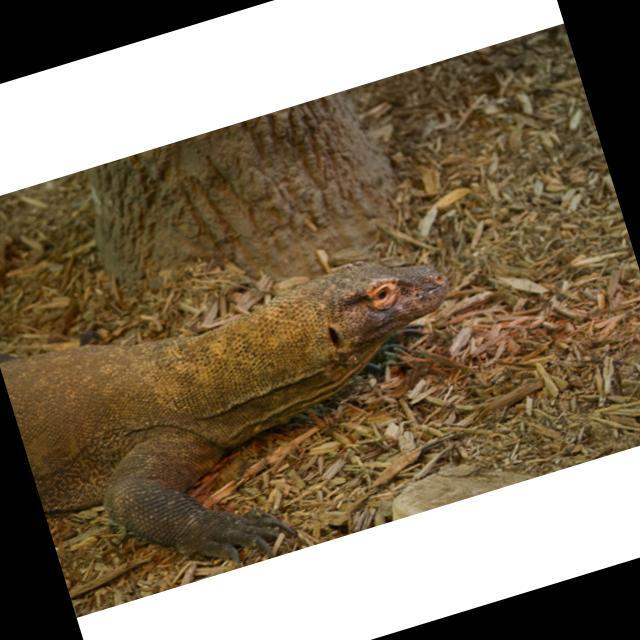KomodoDragon: (0, 224, 509, 613)
